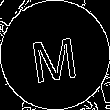M_N: (29, 27, 81, 83)
